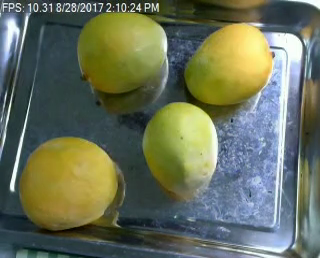Mango: (17, 135, 117, 229), (183, 22, 273, 104), (76, 10, 167, 88), (141, 101, 218, 192)
